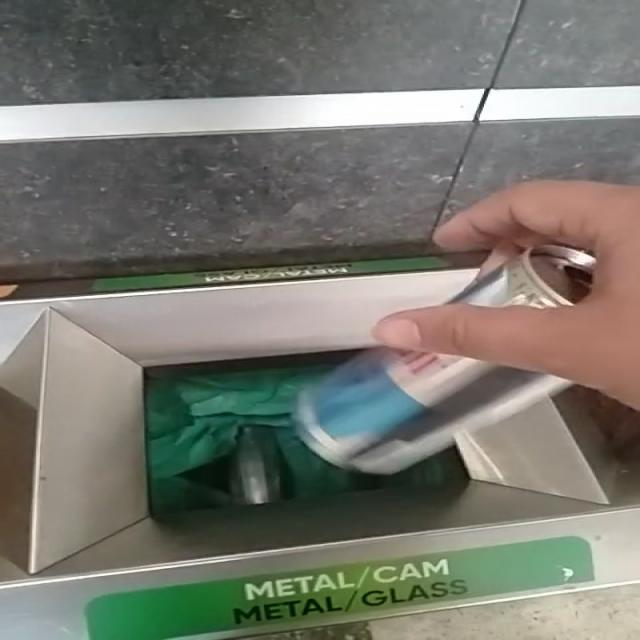bin: (2, 269, 637, 640)
metal: (292, 348, 573, 475), (448, 245, 597, 309), (233, 427, 280, 504)
